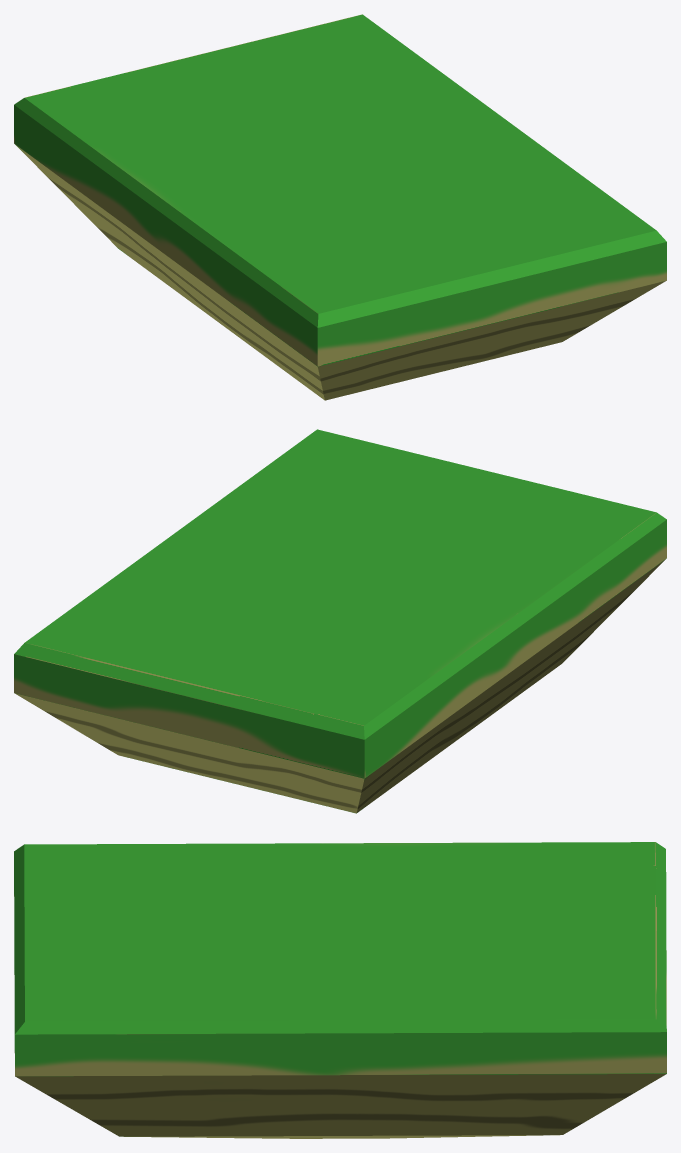
The model's file is plat2x3.obj.
The picture shows the model from 3 angles, top to bottom: view 1: azimuth 30°, elevation 25°; view 2: azimuth 150°, elevation 25°; view 3: azimuth 270°, elevation 25°; orthographic projection. The views are drawn at different scales.
Parts seen in each view (by area): view 1: Cube; view 2: Cube; view 3: Cube.
Part boxes in pixels (<box>): Cube: <box>14,14,666,400</box>; Cube: <box>14,429,666,813</box>; Cube: <box>14,842,666,1138</box>.
Size of the model in its own units: 4.01 by 1.99 by 6.01.
